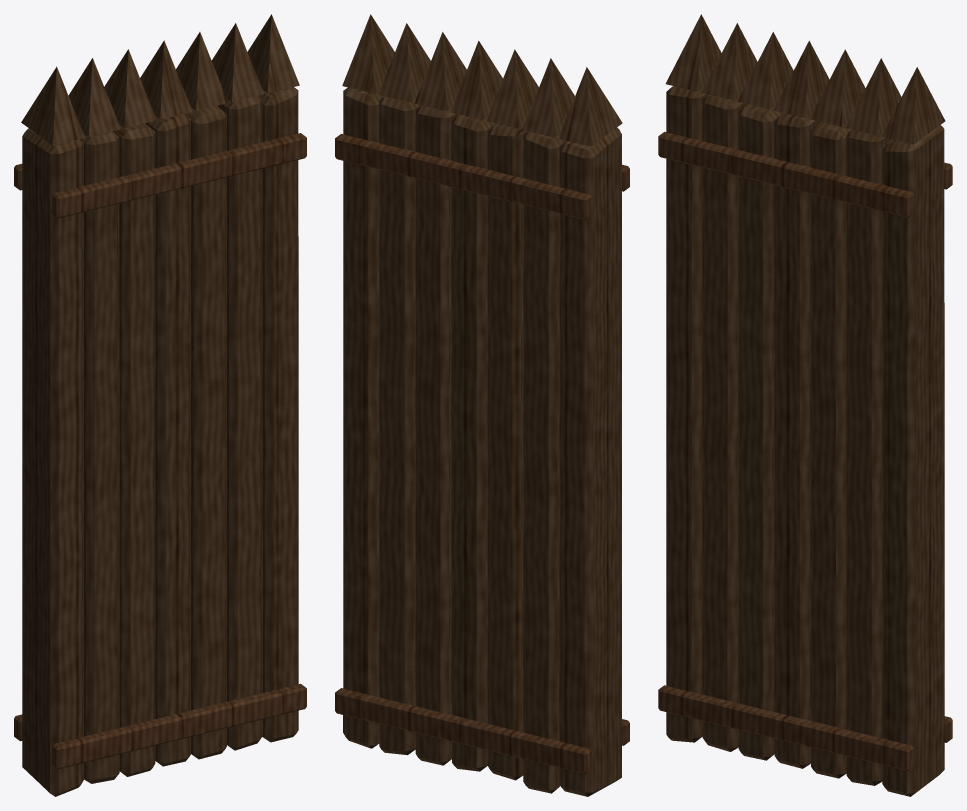
Rendered from wall_palisade_b.glb.
3 views of the same model, side by side, from view 1: azimuth 30°, elevation 25°; view 2: azimuth 150°, elevation 25°; view 3: azimuth 330°, elevation 25° (orthographic).
Parts seen in each view (by area): view 1: wall_palisade_b; view 2: wall_palisade_b; view 3: wall_palisade_b.
Boxes of the visible parts, x1,y1,x2,y2 form: wall_palisade_b: (14, 14, 306, 796); wall_palisade_b: (335, 14, 629, 796); wall_palisade_b: (658, 14, 952, 796).
Size of the model in its own units: 1 by 2.74 by 0.309.
Materials: 2 (2 with a texture image).
